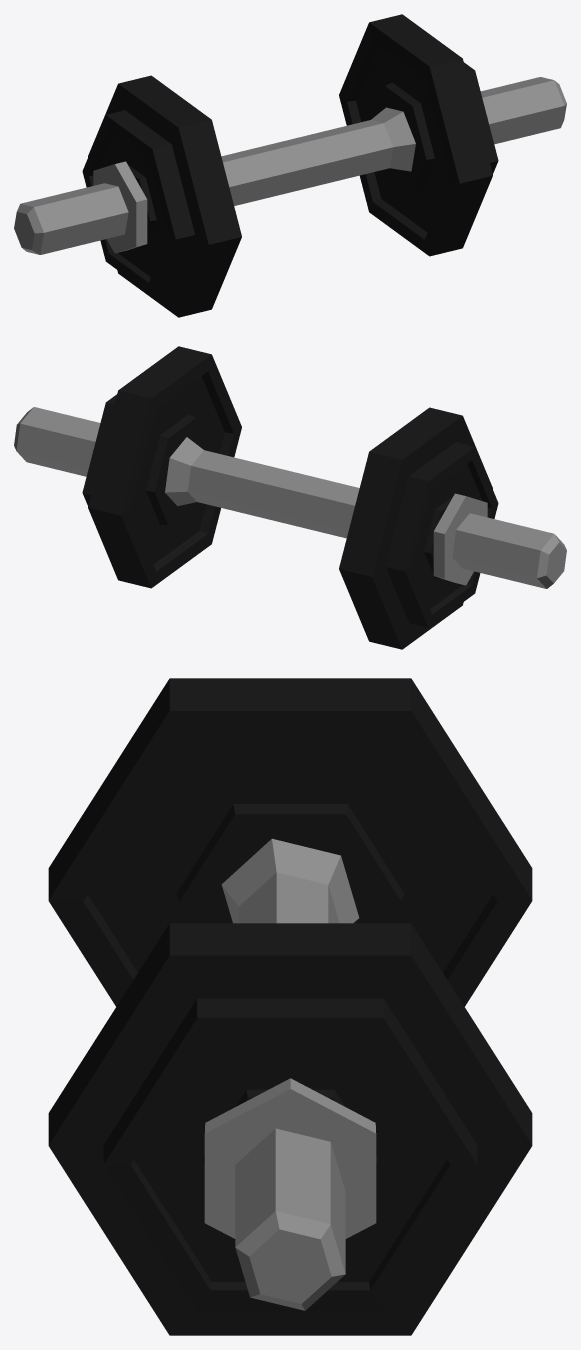
The model's file is Dumbbell.fbx.
The picture shows the model from 3 angles, top to bottom: view 1: azimuth 30°, elevation 25°; view 2: azimuth 150°, elevation 25°; view 3: azimuth 270°, elevation 25°; orthographic projection. The views are drawn at different scales.
Visible parts, largest first — view 1: Dumbbell; view 2: Dumbbell; view 3: Dumbbell.
Part boxes in pixels (box(x1,y1,x2,y2)): Dumbbell: box(14, 14, 566, 317); Dumbbell: box(14, 346, 566, 649); Dumbbell: box(48, 678, 532, 1335).
Size of the model in its own units: 93.32 by 31.81 by 36.73.
